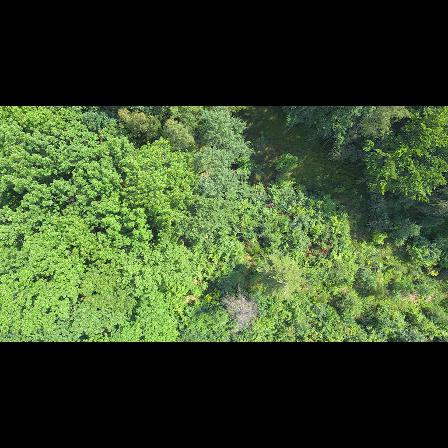Dead: (220, 288, 260, 332)
